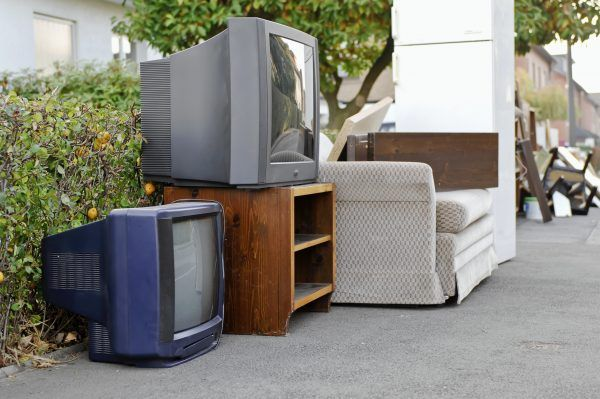bulk_waste: (392, 0, 515, 261), (42, 200, 224, 366), (142, 17, 319, 187), (165, 183, 335, 335), (318, 162, 496, 304), (343, 132, 497, 190)
